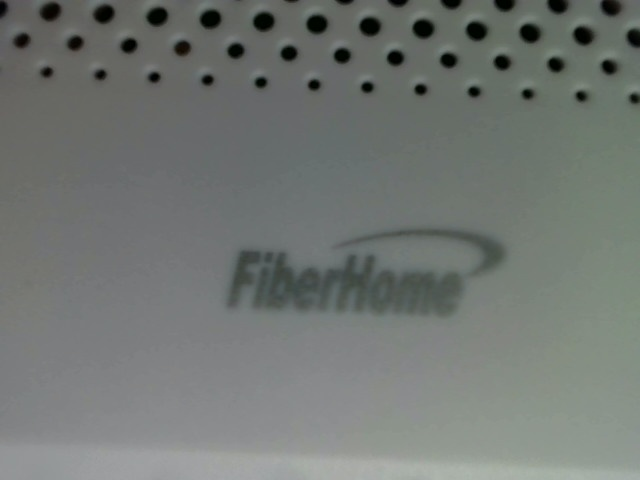AI_FiberHome: (214, 213, 521, 333)
